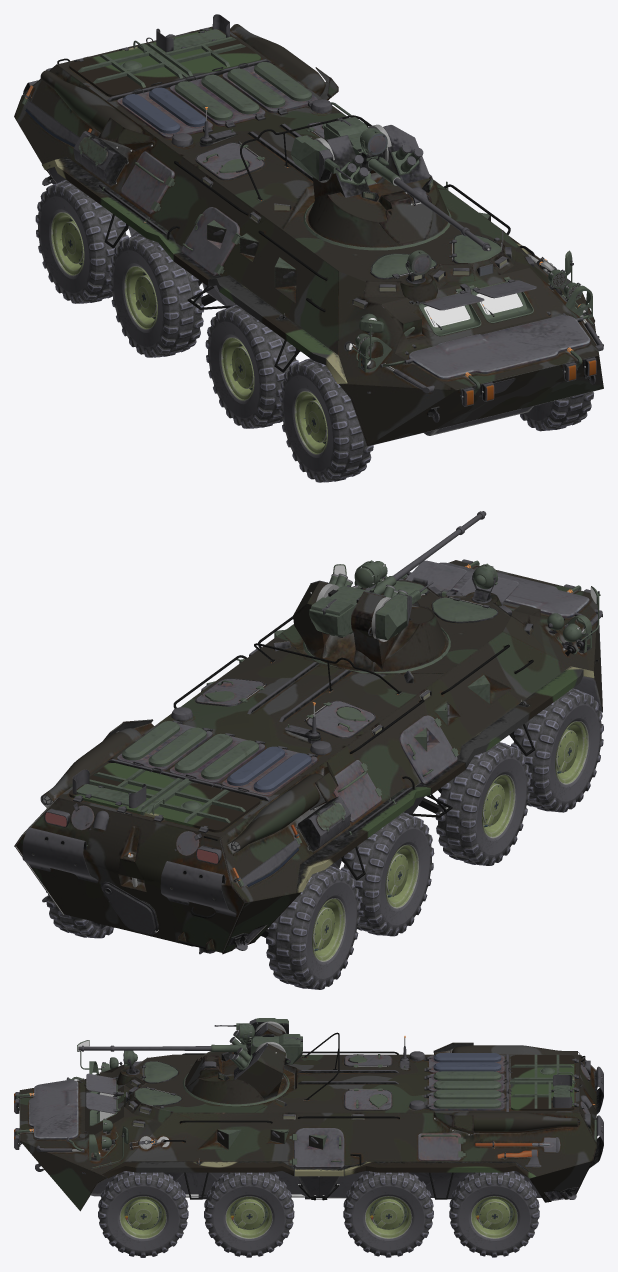
Rendered from btr80-source.glb.
3 views of the same model, one above another, from view 1: azimuth 30°, elevation 25°; view 2: azimuth 150°, elevation 25°; view 3: azimuth 270°, elevation 25° (orthographic). The views are drawn at different scales.
Visible parts, largest first — view 1: Object004_BTR 80 Body Green_0, BTR_80_B_Baked002, Borbali027_BTR_80_Tire_0, Borbali026_BTR_80_Tire_0, Borbali029_BTR_80_Tire_0, Borbali025_BTR_80_Tire_0, BTR_80_C_Baked002, Borbali030_BTR_80_Tire_0, Diski025, Diski027, Diski028, Diski026 (+3 smaller); view 2: Object004_BTR 80 Body Green_0, BTR_80_B_Baked002, Borbali029_BTR_80_Tire_0, Borbali025_BTR_80_Tire_0, Borbali026_BTR_80_Tire_0, Borbali027_BTR_80_Tire_0, BTR_80_C_Baked002, BTR_80_D_Baked002, Diski025, Diski027, Diski028, Diski026 (+2 smaller); view 3: Object004_BTR 80 Body Green_0, BTR_80_B_Baked002, Borbali030_BTR_80_Tire_0, Borbali028_BTR_80_Tire_0, Borbali031_BTR_80_Tire_0, Borbali032_BTR_80_Tire_0, Diski030, Diski029, Diski031, Diski032, BTR_80_C_Baked002, BTR_80_D_Baked002 (+1 smaller).
Boxes of the visible parts, <box> form: Object004_BTR 80 Body Green_0: <box>14,14,603,446</box>; BTR_80_B_Baked002: <box>308,124,449,247</box>; Borbali027_BTR_80_Tire_0: <box>109,233,203,357</box>; Borbali026_BTR_80_Tire_0: <box>279,358,373,482</box>; Borbali029_BTR_80_Tire_0: <box>205,304,298,428</box>; Borbali025_BTR_80_Tire_0: <box>35,180,128,303</box>; BTR_80_C_Baked002: <box>290,117,388,181</box>; Borbali030_BTR_80_Tire_0: <box>520,391,593,431</box>; Diski025: <box>124,266,157,329</box>; Diski027: <box>50,212,84,275</box>; Diski028: <box>294,391,327,454</box>; Diski026: <box>221,337,254,401</box>; Object004_BTR 80 Body Green_0: <box>14,559,602,954</box>; BTR_80_B_Baked002: <box>293,573,446,671</box>; Borbali029_BTR_80_Tire_0: <box>435,742,530,865</box>; Borbali025_BTR_80_Tire_0: <box>266,866,360,989</box>; Borbali026_BTR_80_Tire_0: <box>511,688,603,812</box>; Borbali027_BTR_80_Tire_0: <box>341,812,434,936</box>; BTR_80_C_Baked002: <box>309,560,433,640</box>; BTR_80_D_Baked002: <box>405,560,518,605</box>; Diski025: <box>385,844,418,908</box>; Diski027: <box>312,898,345,961</box>; Diski028: <box>555,721,588,784</box>; Diski026: <box>482,774,515,838</box>; Object004_BTR 80 Body Green_0: <box>14,1032,603,1211</box>; BTR_80_B_Baked002: <box>185,1021,290,1104</box>; Borbali030_BTR_80_Tire_0: <box>98,1171,188,1257</box>; Borbali028_BTR_80_Tire_0: <box>204,1172,294,1257</box>; Borbali031_BTR_80_Tire_0: <box>343,1171,433,1257</box>; Borbali032_BTR_80_Tire_0: <box>449,1171,539,1257</box>; Diski030: <box>119,1196,166,1238</box>; Diski029: <box>225,1196,272,1238</box>; Diski031: <box>365,1196,412,1238</box>; Diski032: <box>471,1196,517,1238</box>; BTR_80_C_Baked002: <box>214,1018,302,1065</box>; BTR_80_D_Baked002: <box>86,1073,118,1113</box>.
Size of the model in its own units: 3.44 by 3.28 by 9.08.
10 materials, 7 textured.
